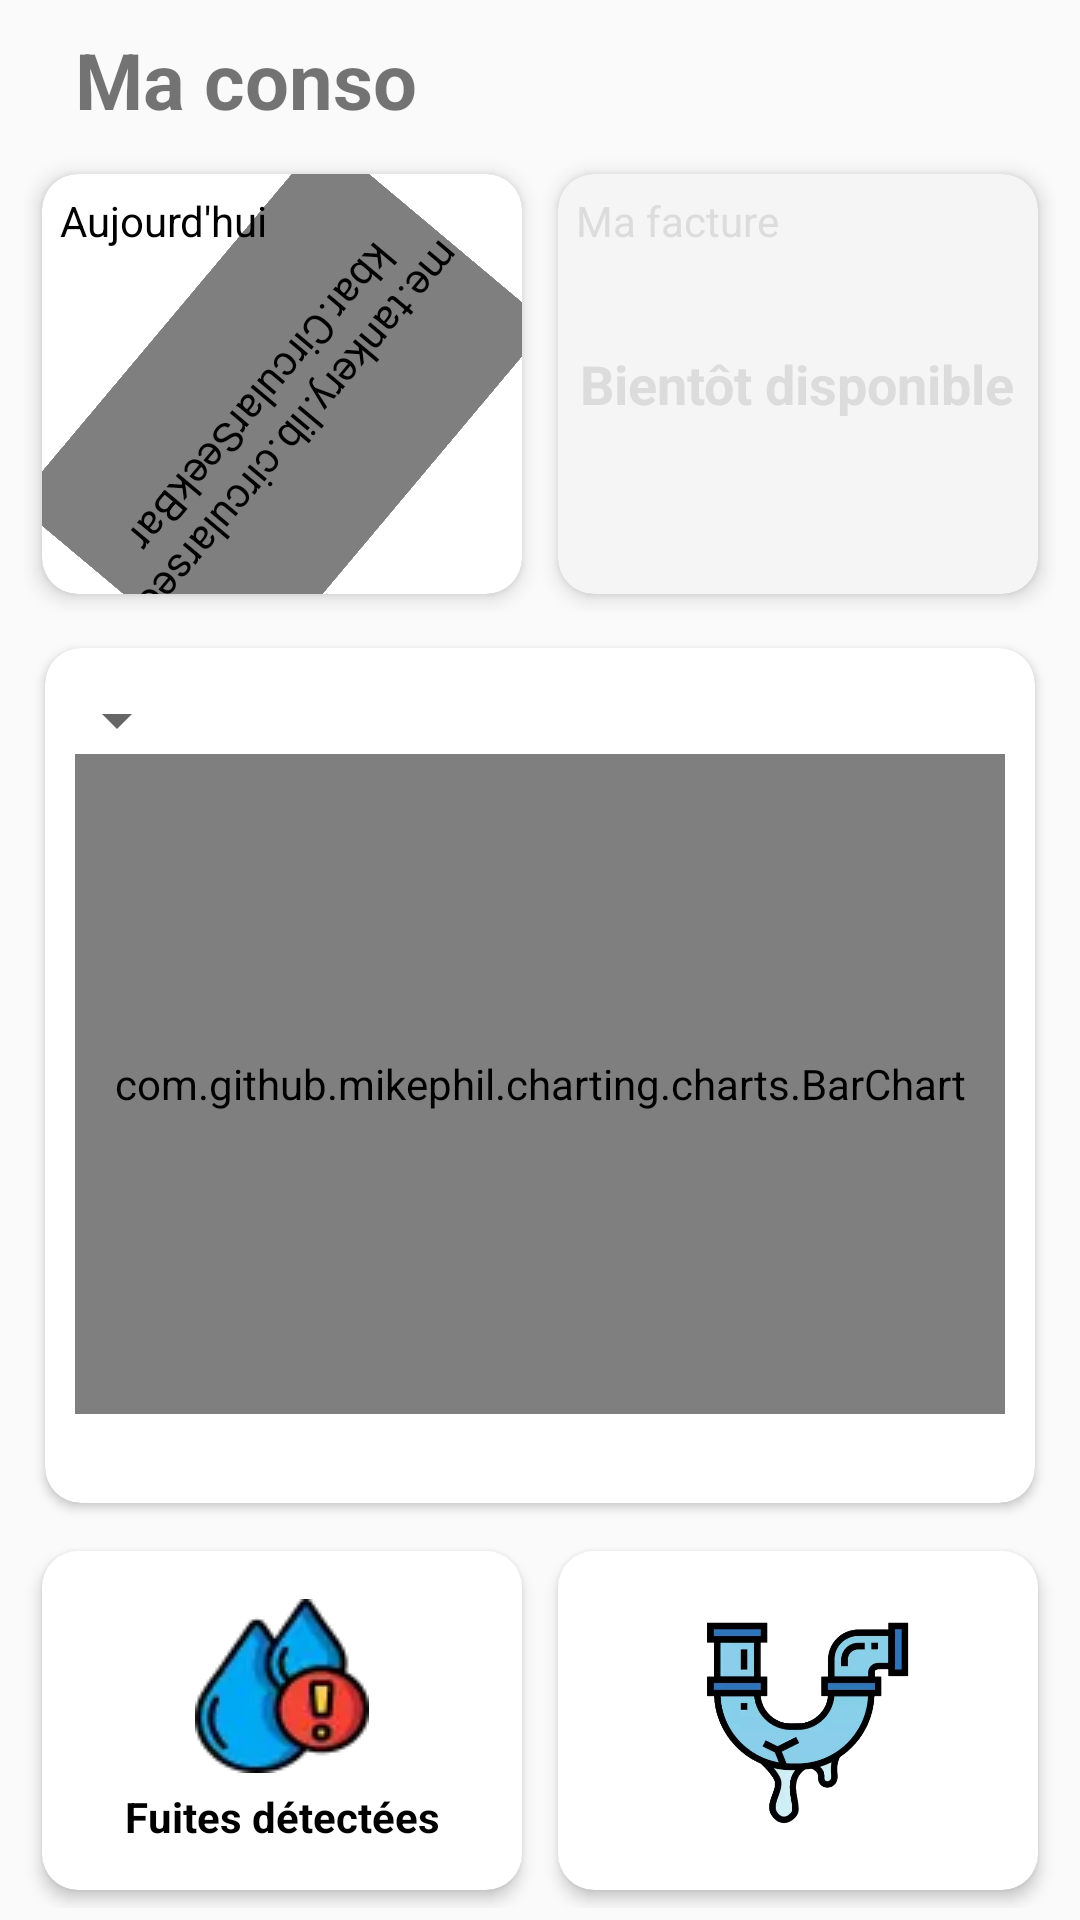

Where icons sit on this 1080×1920 app screen, as region(x1, y1, x2, y2):
Image signaler fuite: region(707, 1622, 909, 1823)
